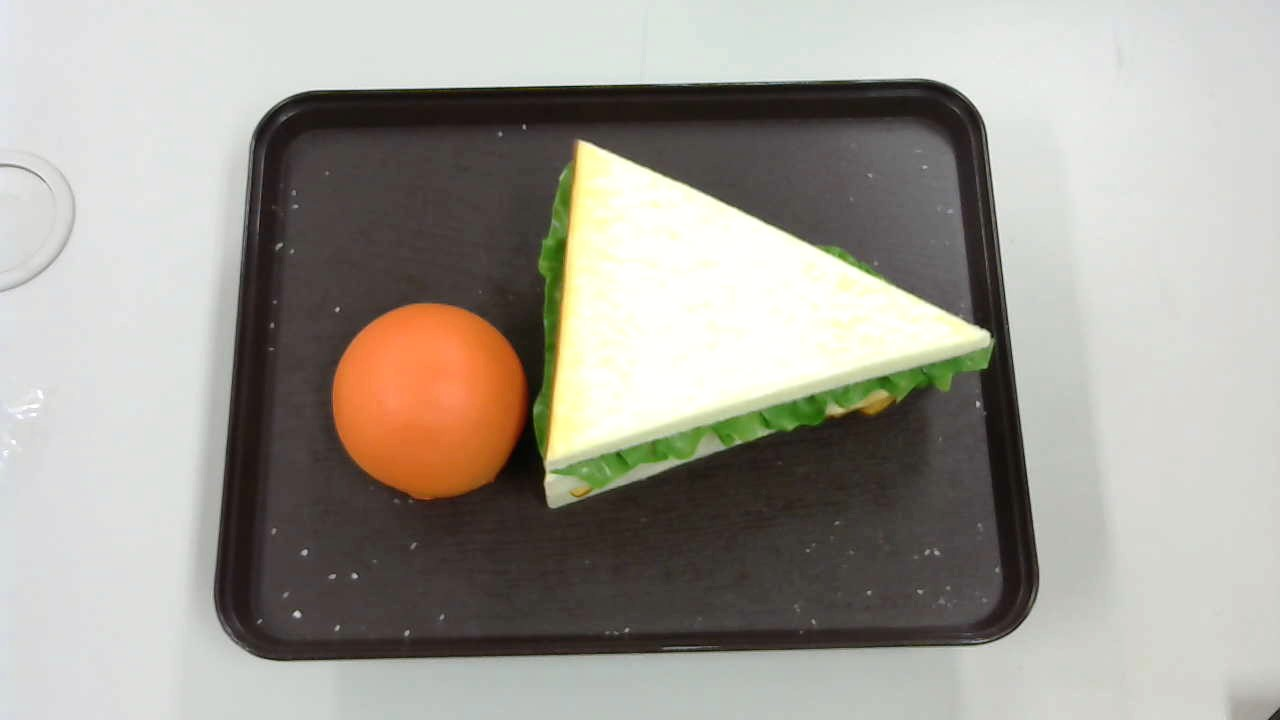bun: (332, 301, 527, 498)
sandwich: (531, 138, 995, 514)
